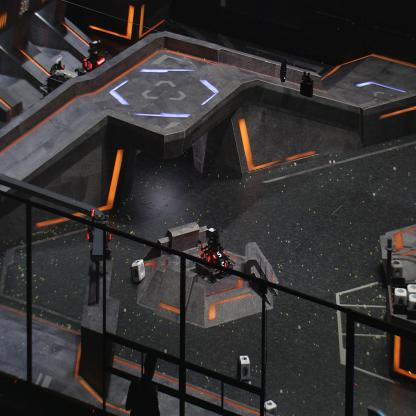car: (194, 228, 235, 282), (40, 68, 78, 120), (81, 40, 108, 81)
